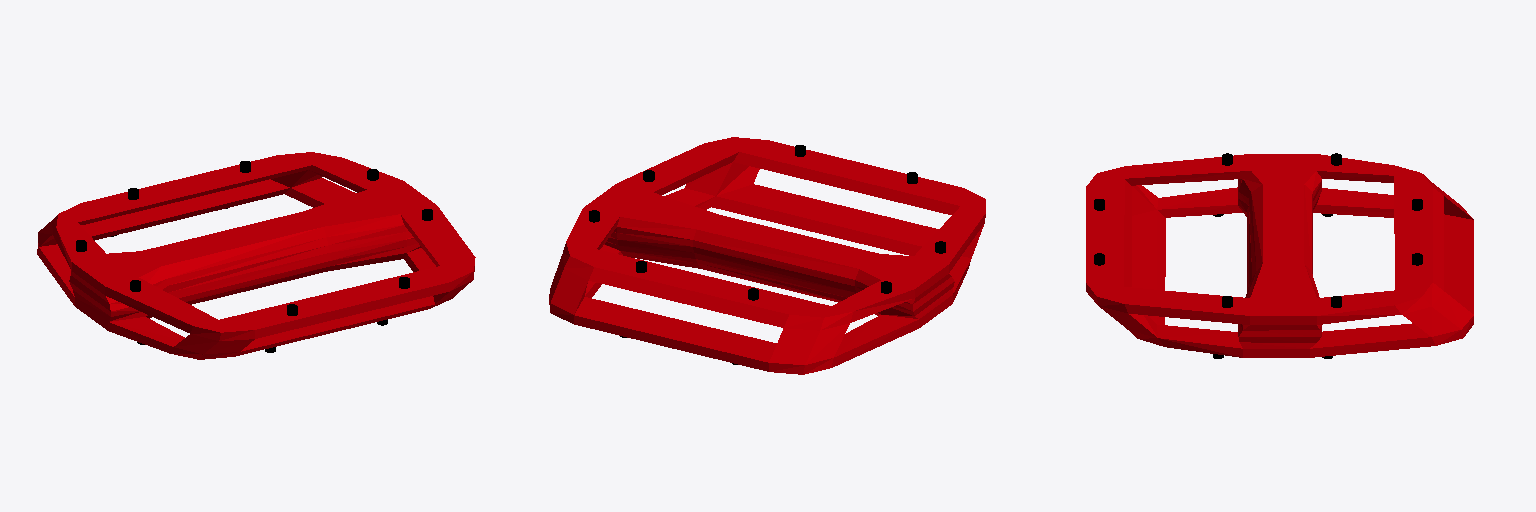
File: slimPedalTwoMat.obj
3 renders of one model, left to right at view 1: azimuth 30°, elevation 25°; view 2: azimuth 150°, elevation 25°; view 3: azimuth 270°, elevation 25°, orthographic.
Visible parts, largest first — view 1: Pedal_01_LOD1_0, Cylinder.008; view 2: Pedal_01_LOD1_0, Cylinder.008; view 3: Pedal_01_LOD1_0, Cylinder.008.
Boxes of the visible parts, box(x1,y1,x2,y2) form: Pedal_01_LOD1_0: box(37, 152, 475, 359); Cylinder.008: box(76, 161, 432, 352); Pedal_01_LOD1_0: box(549, 137, 985, 374); Cylinder.008: box(589, 145, 945, 364); Pedal_01_LOD1_0: box(1086, 154, 1473, 357); Cylinder.008: box(1094, 153, 1422, 358).
Size of the model in its own units: 0.0927 by 0.0153 by 0.0938.